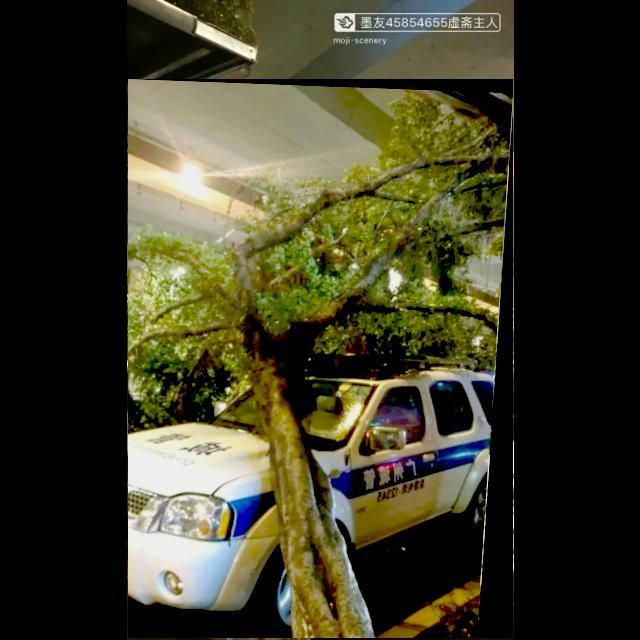fallen_tree: (128, 79, 514, 639)
